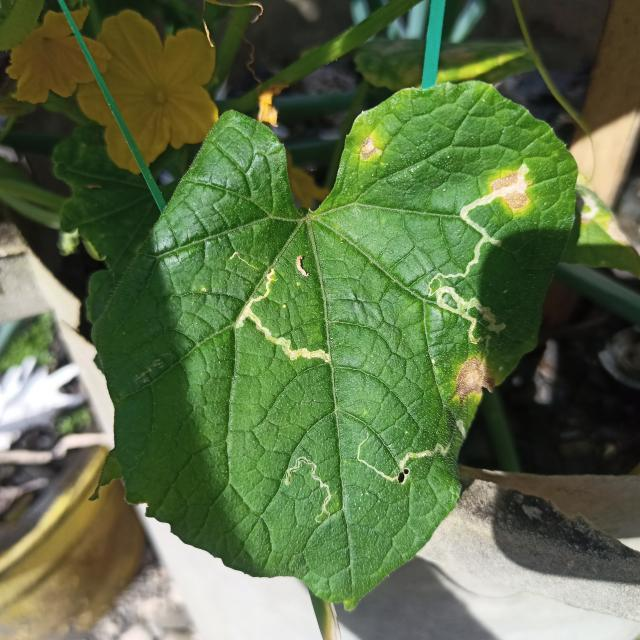disease_cucumber: (446, 356, 503, 407), (491, 171, 533, 217), (354, 133, 386, 166)
